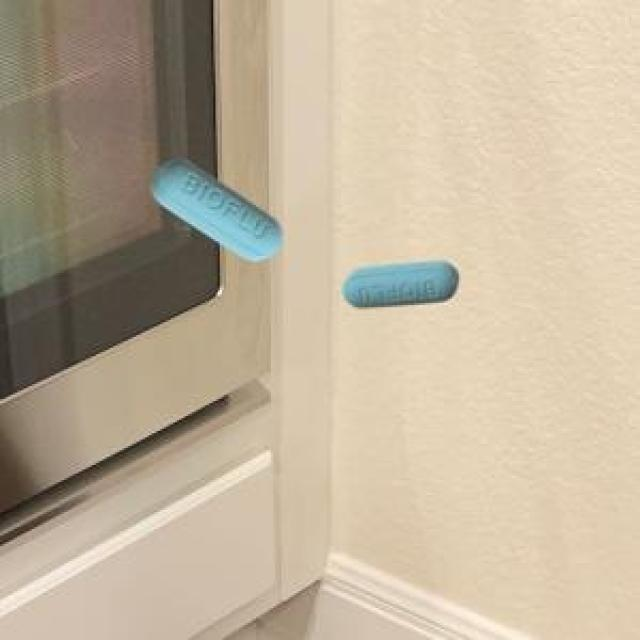Bioflu: (143, 141, 291, 274), (330, 256, 466, 320)
